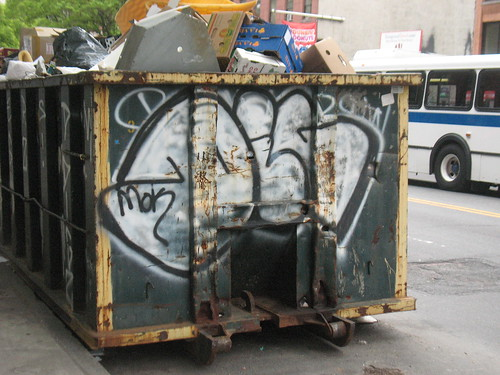bus: (348, 50, 500, 186)
graffiti: (104, 77, 404, 308)
trash: (9, 1, 349, 73)
